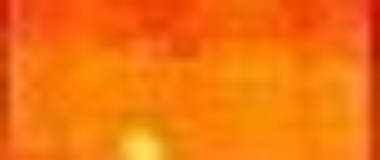Hotspot: (112, 117, 168, 160)
